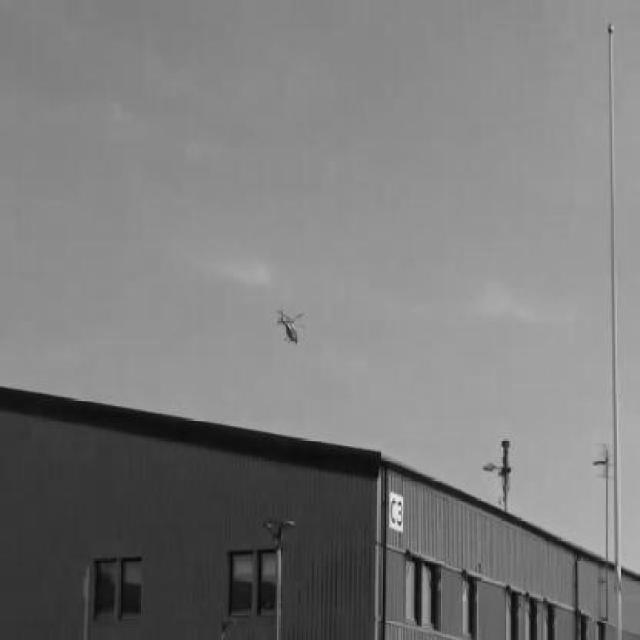helikopter: (268, 299, 312, 350)
